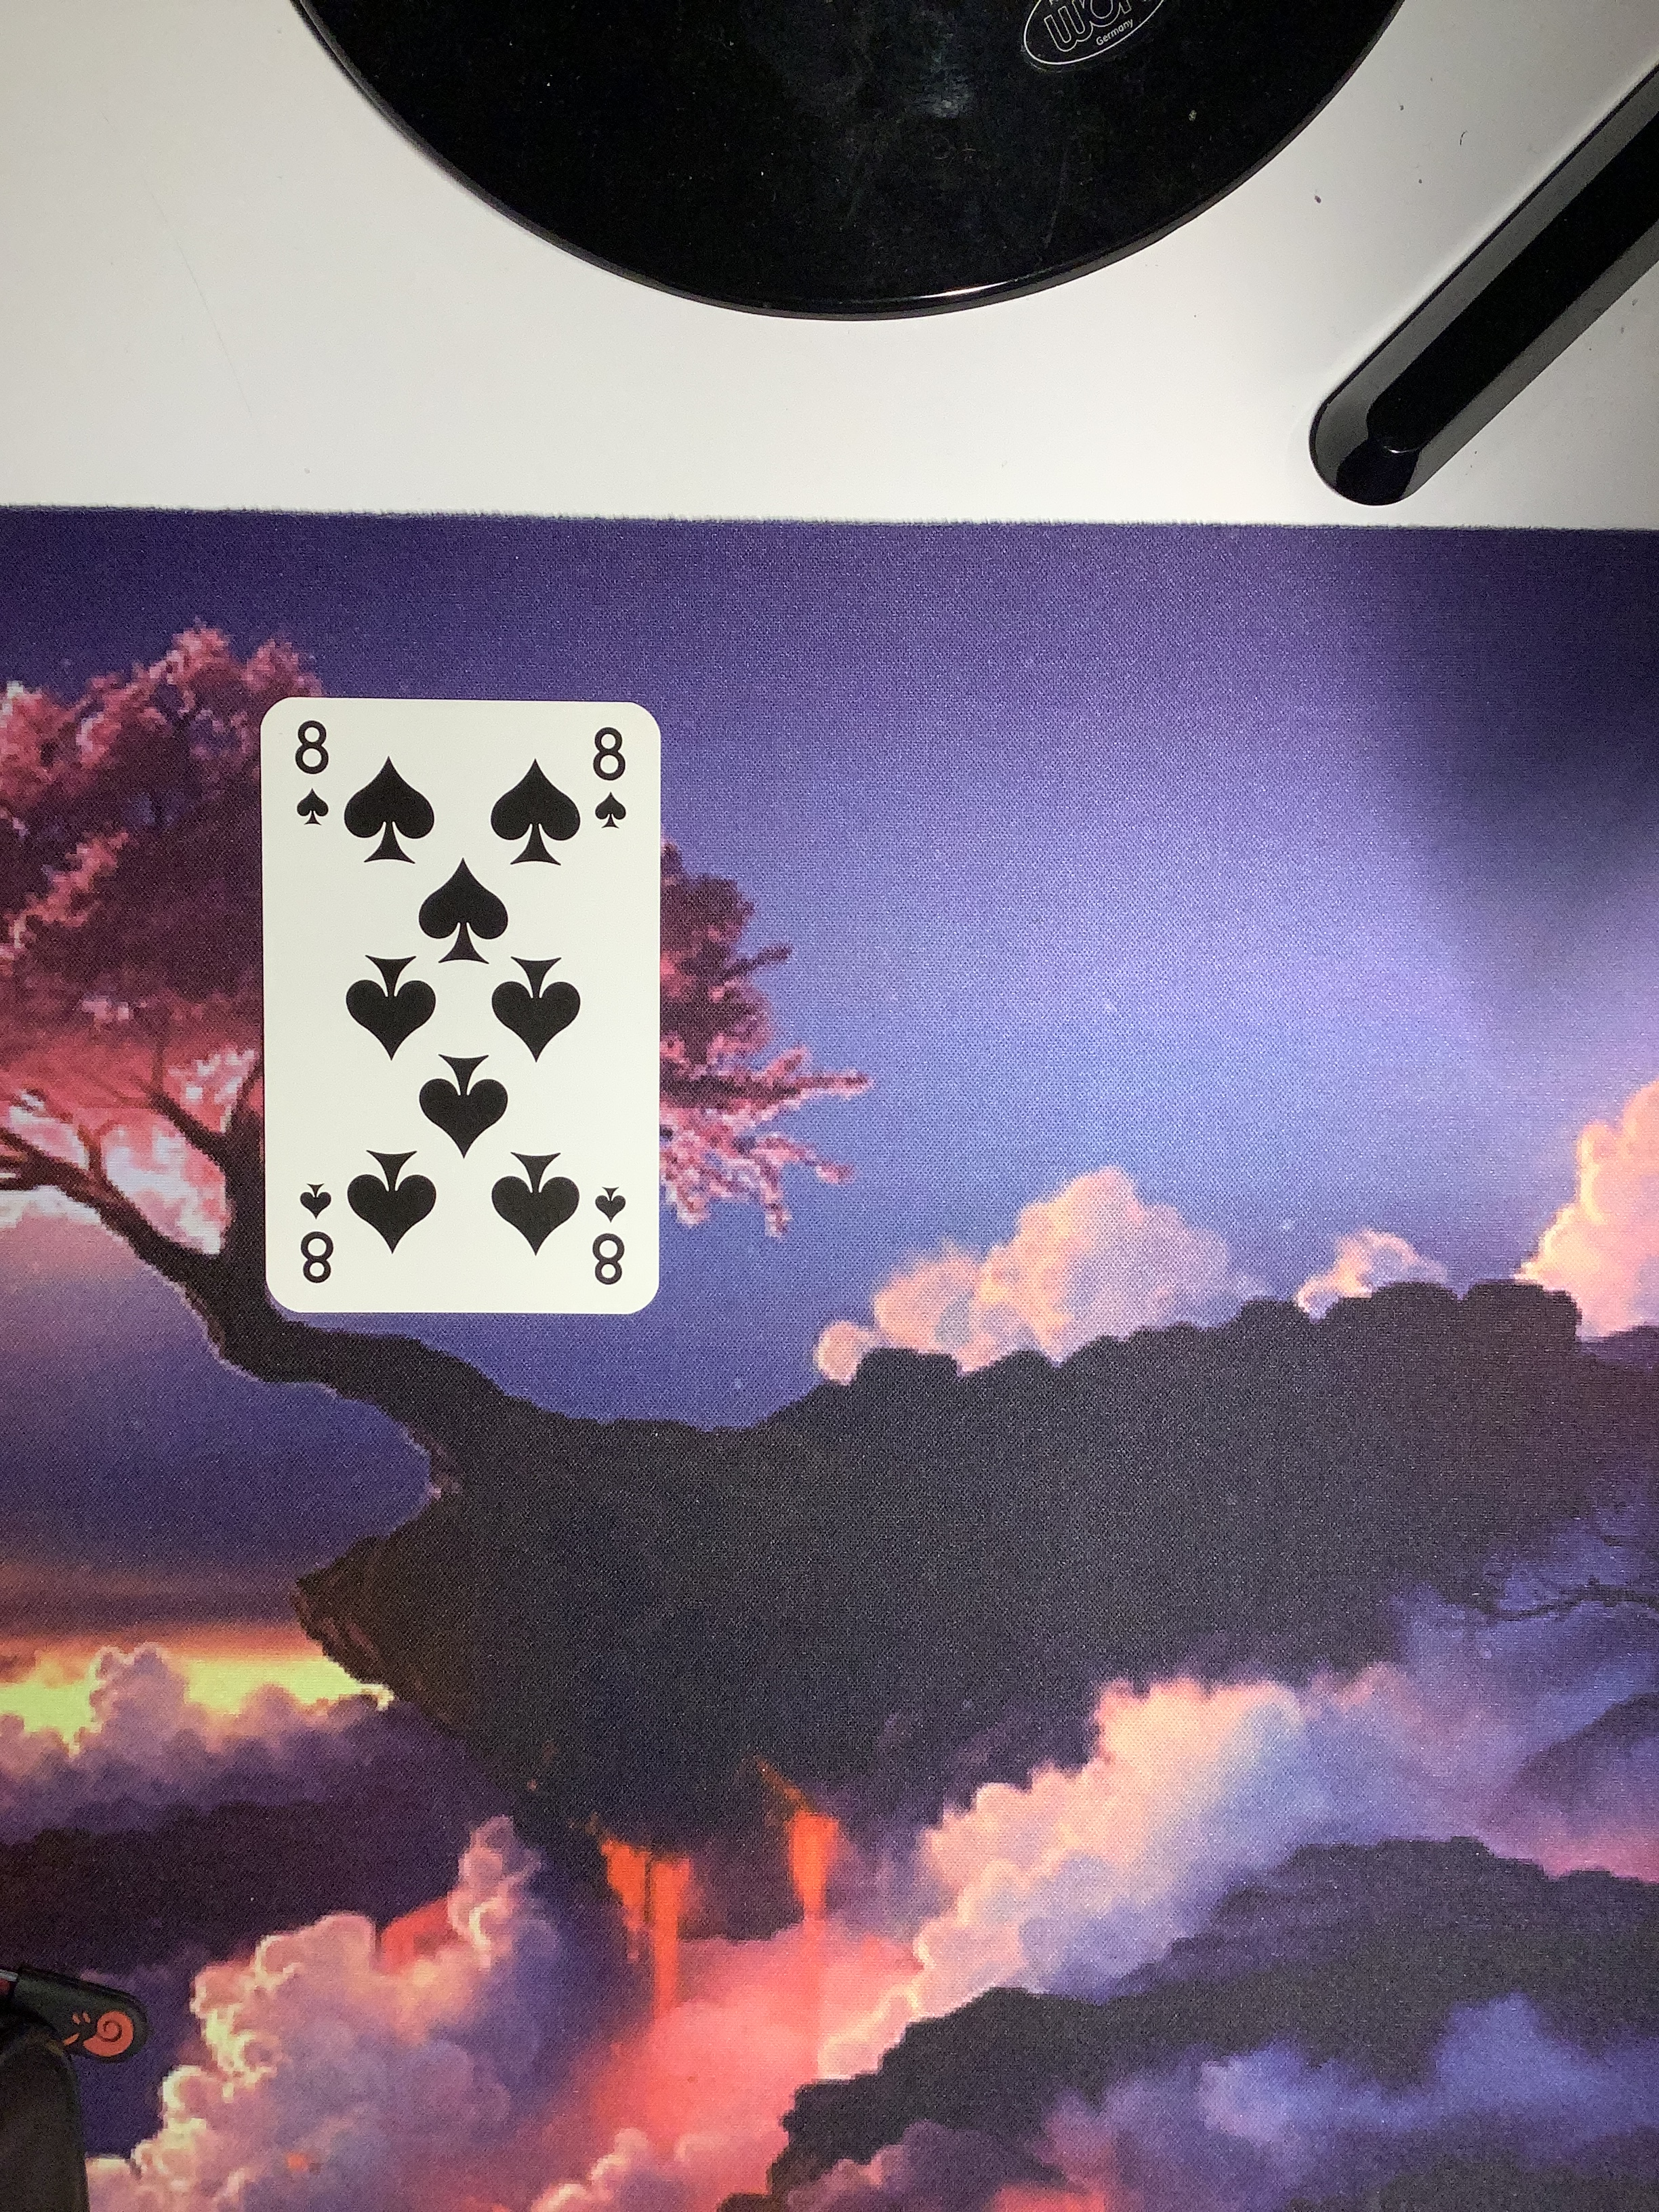♠ 8: (247, 688, 680, 1336)
